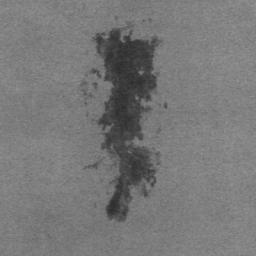Iron scale compression: (84, 29, 161, 221)
